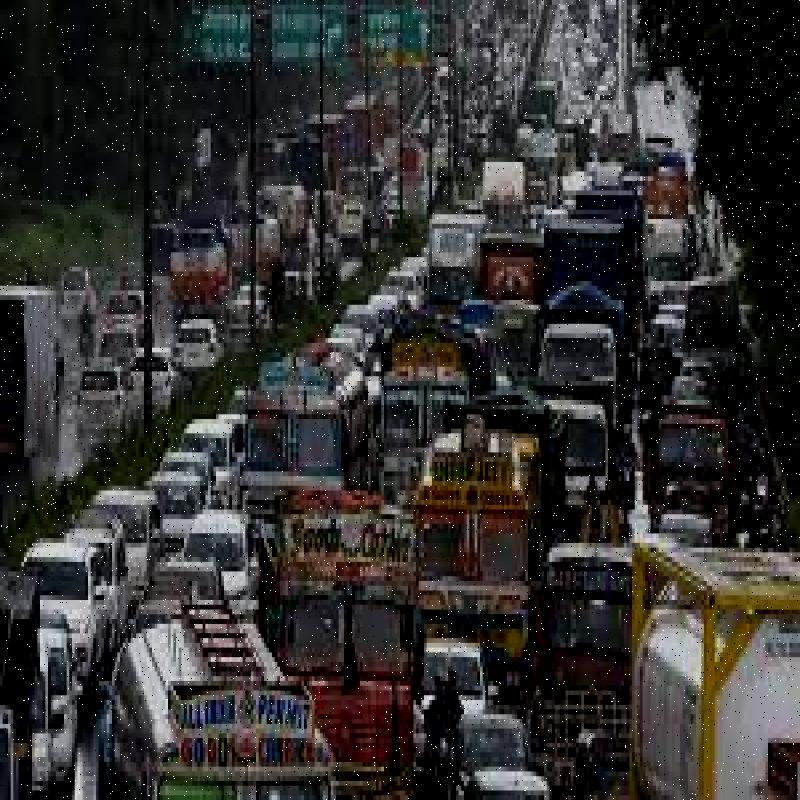car: (18, 531, 114, 680), (97, 497, 160, 646), (188, 510, 252, 609), (188, 398, 247, 489), (72, 363, 128, 441), (165, 454, 201, 549), (171, 311, 212, 391)
